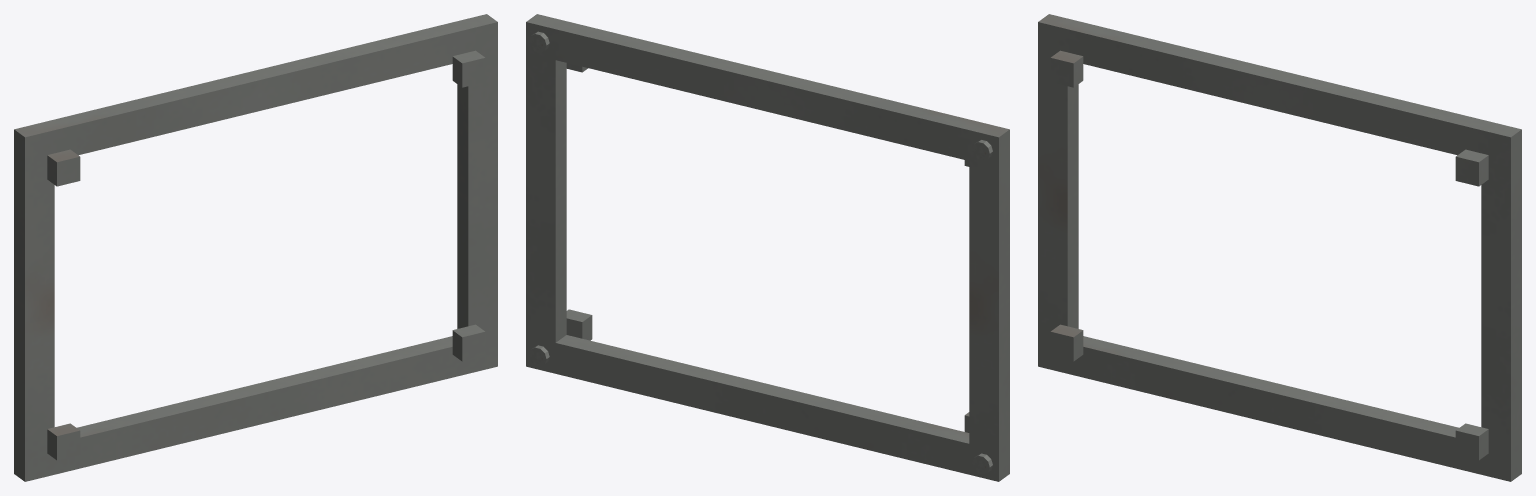
File: sign_guide.gltf
3 views of the same model, side by side, from view 1: azimuth 30°, elevation 25°; view 2: azimuth 150°, elevation 25°; view 3: azimuth 330°, elevation 25° (orthographic).
Visible parts, largest first — view 1: jx_sign_guide; view 2: jx_sign_guide; view 3: jx_sign_guide.
Boxes of the visible parts, x1,y1,x2,y2 form: jx_sign_guide: (14,14,497,481); jx_sign_guide: (526,14,1009,481); jx_sign_guide: (1038,14,1521,481).
Bounding box in the file's own units: 1.12 × 0.78 × 0.098.
1 material, 1 textured.
